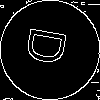D: (25, 25, 77, 69)
